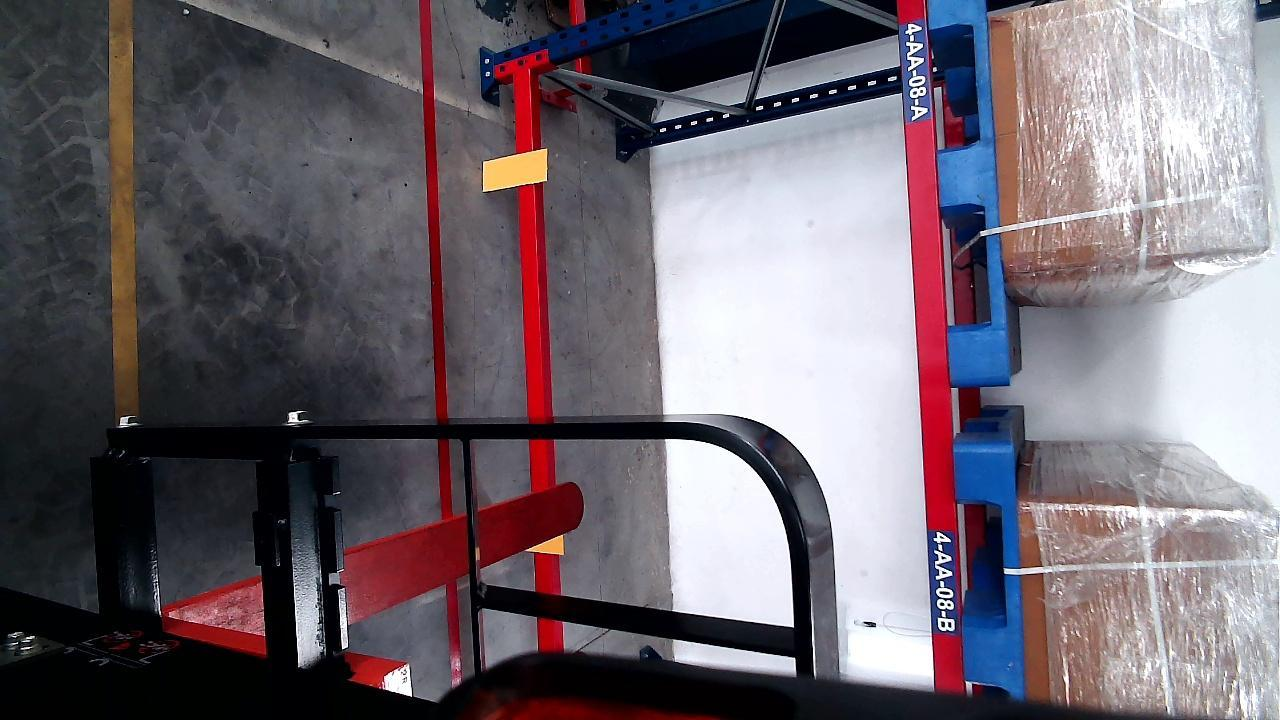red_line: (417, 2, 459, 695)
yellow_line: (109, 0, 139, 419)
